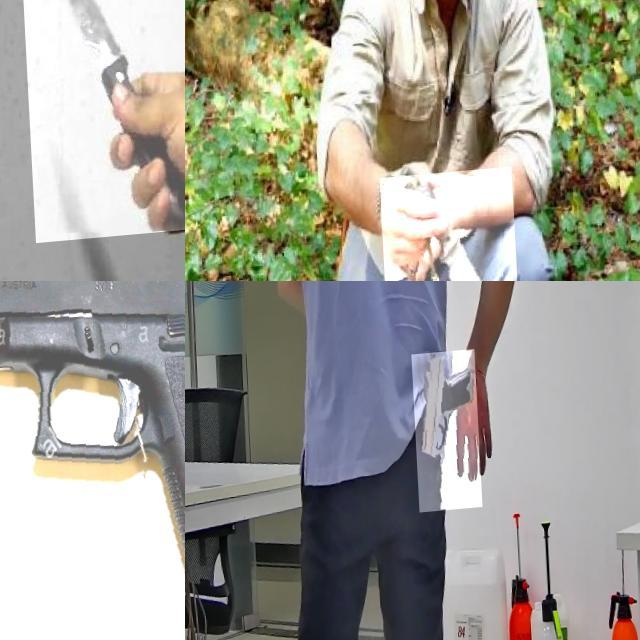-: (17, 0, 185, 248), (375, 174, 514, 281)
gun-knife-thesis - v11 Yolov5 augmented: (0, 281, 185, 640), (408, 355, 478, 518)
